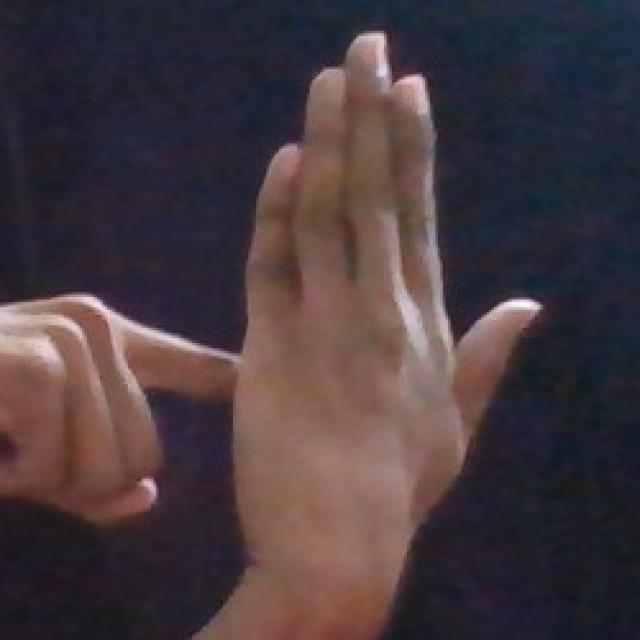Alphabet-R: (0, 13, 520, 640)
